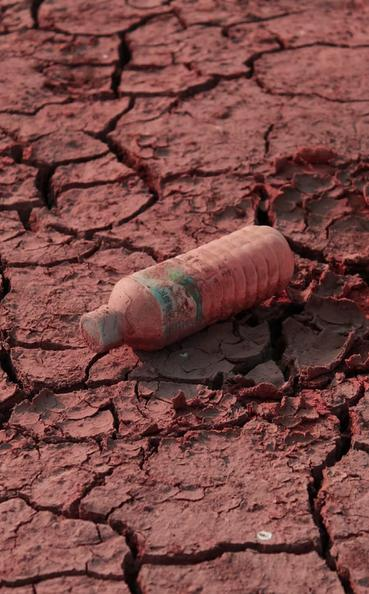Plastic: (74, 216, 301, 383)
